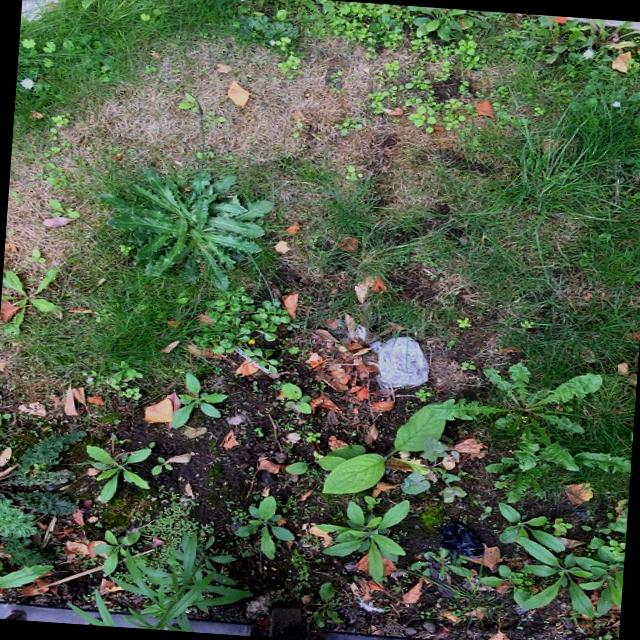Trash: (374, 328, 432, 394), (435, 516, 489, 560)
